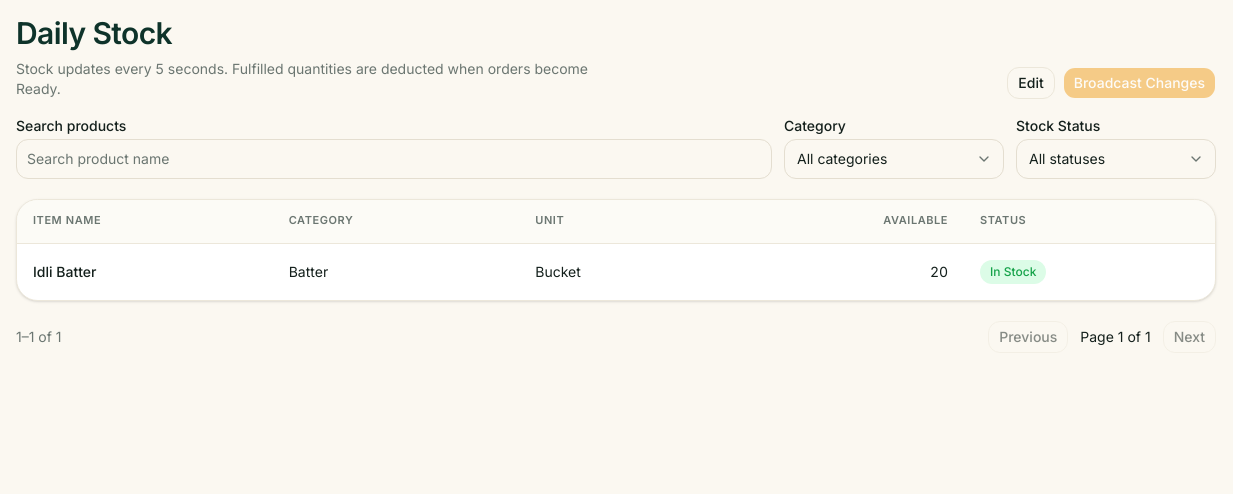
Scenario: broadcast errors keep saved quantities for review
The image size is (1233, 494).
Expected: the text "Idli Batter" is shown, [33,263,96,280]
Click the button "Edit". click: click(1031, 82)
box: [1007,66,1055,98]
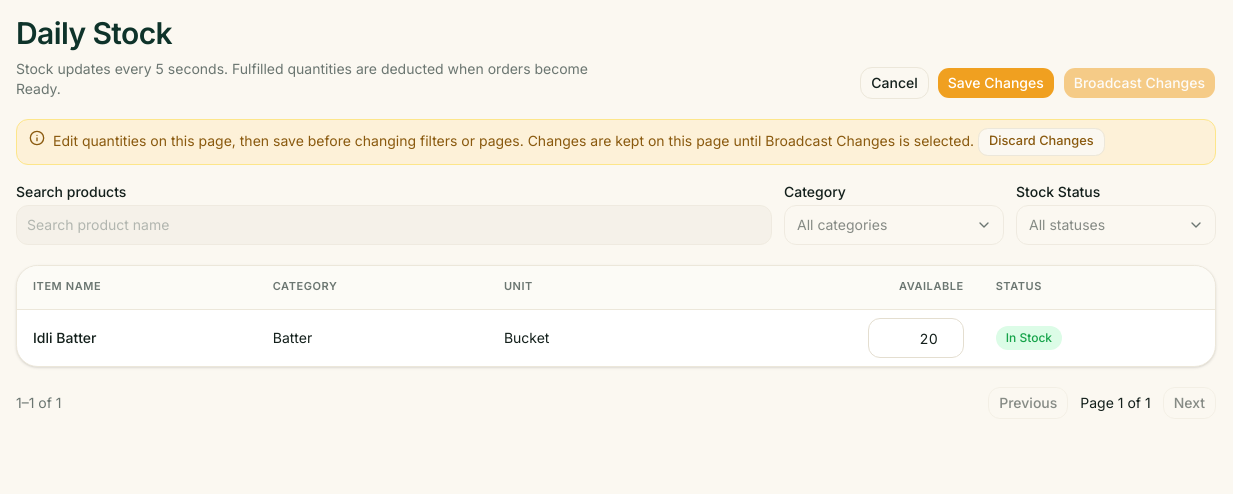
Replace the text in the number field with "12". click: (916, 338)
box: [868,318,964,358]
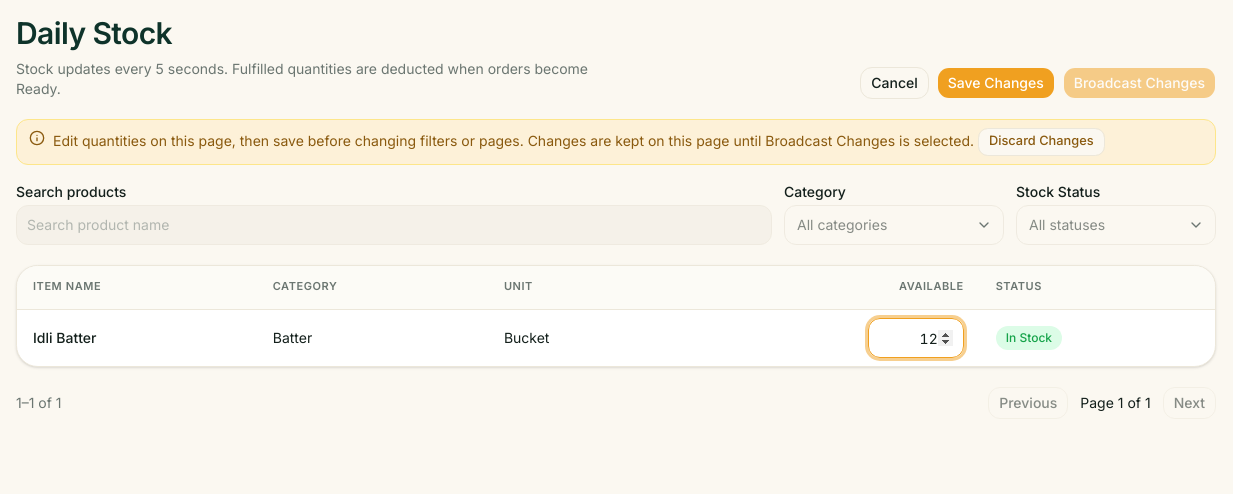
Click the button "Save Changes". click: click(996, 82)
box: [937,66,1055,98]
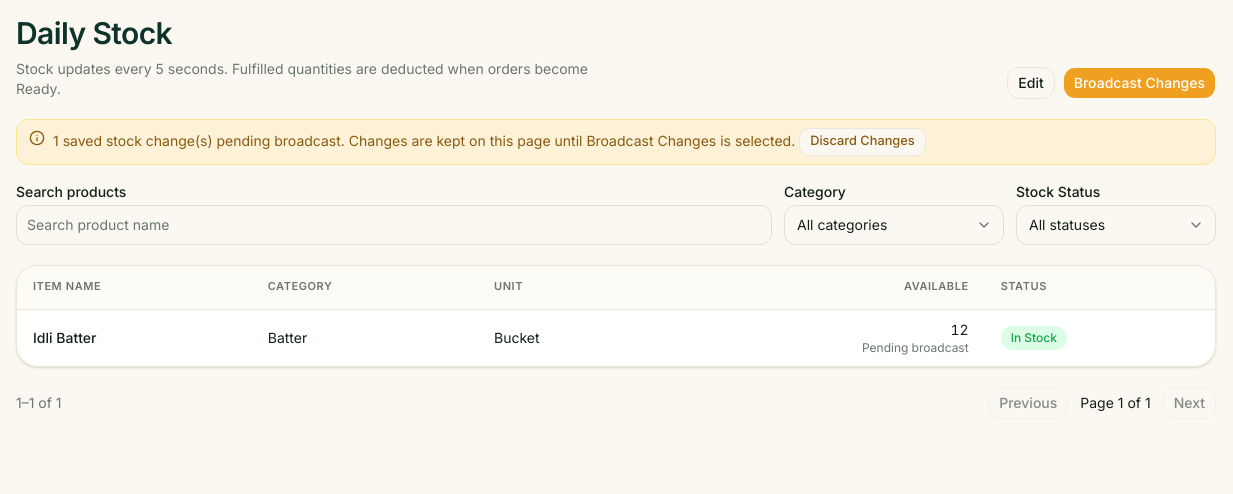
Click the button "Broadcast Changes". click: click(1139, 82)
box: [1063,66,1216,98]
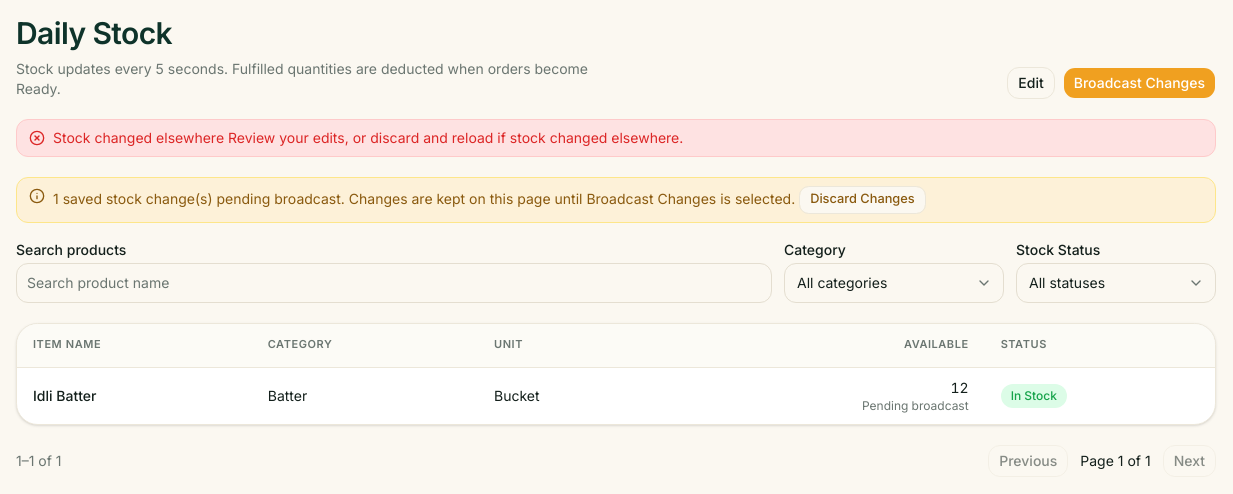
Expected: the text "Pending broadcast" is shown, [862,398,969,413]
Expected: the text "Stock changed elsewhere" is shown, [53,128,224,146]
